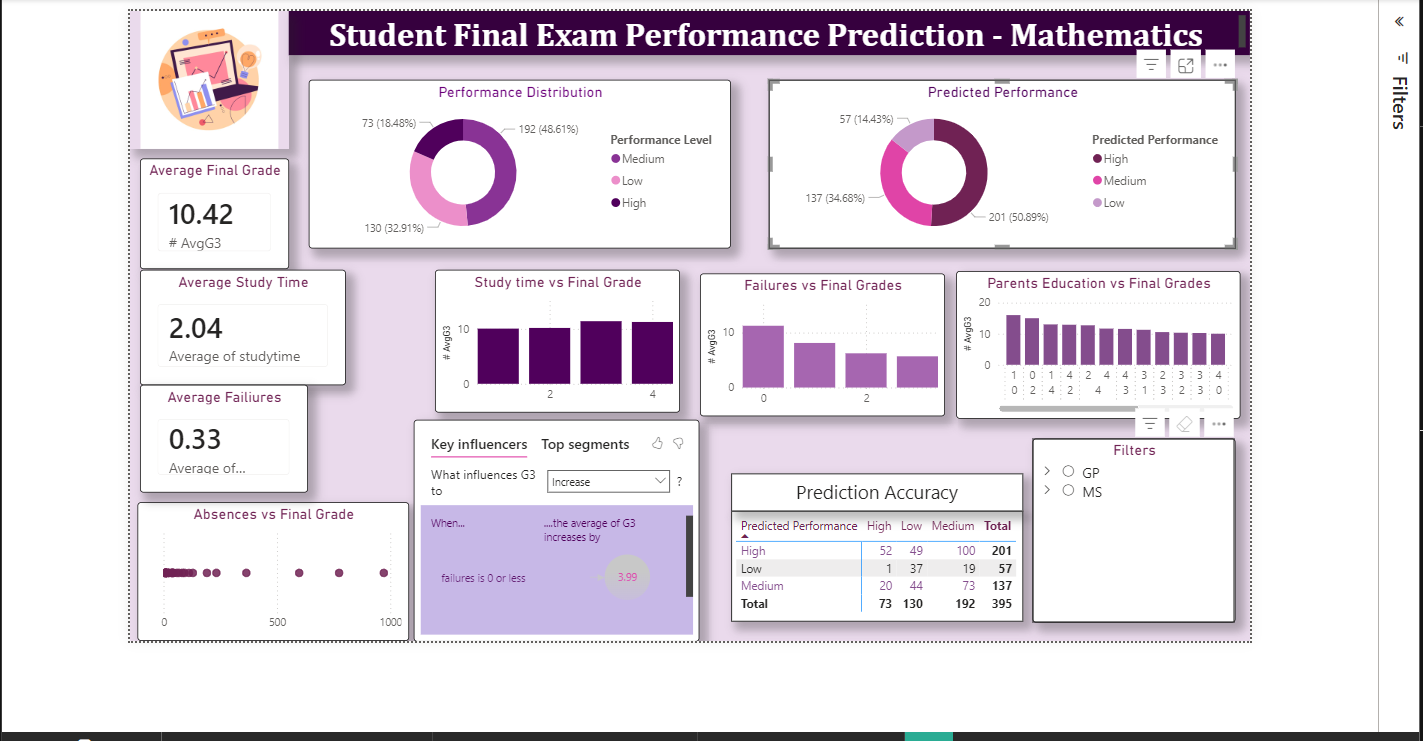

The page's visual inventory and layout, read from the dashboard file:
{"tool":"powerbi","page":{"name":"Predict final exam performance","canvas":[1280,720],"ordinal":1},"visuals":[{"type":"textbox","box":[181.2,0,1098.8,50],"z":0},{"type":"image","box":[0,0,181.2,157.5],"z":1000},{"type":"donutChart","title":"Performance Distribution","fields":{"Category":["student-mat.Performance Level"],"Y":["student-mat.# Student"]},"box":[204,78.4,482.7,192.8],"z":2000},{"type":"donutChart","title":"Predicted Performance","fields":{"Category":["student-mat.Predicted Performance"],"Y":["student-mat.# Student"]},"box":[730.2,78.4,533.7,192.8],"z":2001},{"type":"clusteredColumnChart","title":"Study time vs Final Grade","fields":{"Category":["student-mat.studytime"],"Y":["student-mat.# AvgG3"]},"box":[348.3,295,280,163.3],"z":2002},{"type":"scatterChart","title":"Absences vs Final Grade ","fields":{"Category":["student-mat.absences"],"X":["Sum(student-mat.G3)"]},"box":[8.3,561.7,310,158.3],"z":2003},{"type":"clusteredColumnChart","title":"Failures vs Final Grades","fields":{"Category":["student-mat.failures"],"Y":["student-mat.# AvgG3"]},"box":[651.7,300,280,163.3],"z":2004},{"type":"clusteredColumnChart","title":"Parents Education vs Final Grades","fields":{"Category":["student-mat.Fedu","student-mat.Medu"],"Y":["student-mat.# AvgG3"]},"box":[944.2,297.3,324.7,169.2],"z":2005},{"type":"keyDriversVisual","fields":{"Target":["student-mat.G3"],"ExplainBy":["student-mat.studytime","student-mat.absences","student-mat.failures","student-mat.Fedu","student-mat.Medu"]},"box":[325,466.7,326.7,253.3],"z":2006},{"type":"pivotTable","fields":{"Rows":["student-mat.Predicted Performance"],"Columns":["student-mat.Performance Level"],"Values":["student-mat.# Student"]},"box":[686.7,571.7,333.3,126.7],"z":2007},{"type":"textbox","box":[686.7,528.3,333.3,43.3],"z":2008},{"type":"cardVisual","title":"Average Final Grade","fields":{"Data":["student-mat.# AvgG3"]},"box":[11.7,168.3,170,126.7],"z":2009},{"type":"listSlicer","title":"Filters","fields":{"Values":["student-mat.school","student-mat.sex","student-mat.studytime","student-mat.failures","student-mat.internet","student-mat.higher"]},"box":[1031.7,488.3,231.7,210],"z":2010},{"type":"cardVisual","title":"Average Study Time","fields":{"Data":["Avg(student-mat.studytime)"]},"box":[11.7,295,235,131.7],"z":2011},{"type":"cardVisual","title":"Average Failiures","fields":{"Data":["Avg(student-mat.failures)"]},"box":[11.7,426.7,191.7,123.3],"z":2012}]}

Visuals, with their boxes on the page's 1280x720 design canvas (x1, y1, x2, y2). These are canvas units, not pixel positions in the 1423x741 screenshot, which may show the page scaled, cropped or inside an application window:
textbox: region(181, 0, 1280, 50)
image: region(0, 0, 181, 158)
"Performance Distribution" donutChart: region(204, 78, 687, 271)
"Predicted Performance" donutChart: region(730, 78, 1264, 271)
"Study time vs Final Grade" clusteredColumnChart: region(348, 295, 628, 458)
"Absences vs Final Grade " scatterChart: region(8, 562, 318, 720)
"Failures vs Final Grades" clusteredColumnChart: region(652, 300, 932, 463)
"Parents Education vs Final Grades" clusteredColumnChart: region(944, 297, 1269, 466)
keyDriversVisual - student-mat.G3 x student-mat.studytime: region(325, 467, 652, 720)
pivotTable - student-mat.Predicted Performance x student-mat.Performance Level: region(687, 572, 1020, 698)
textbox: region(687, 528, 1020, 572)
"Average Final Grade" cardVisual: region(12, 168, 182, 295)
"Filters" listSlicer: region(1032, 488, 1263, 698)
"Average Study Time" cardVisual: region(12, 295, 247, 427)
"Average Failiures" cardVisual: region(12, 427, 203, 550)
